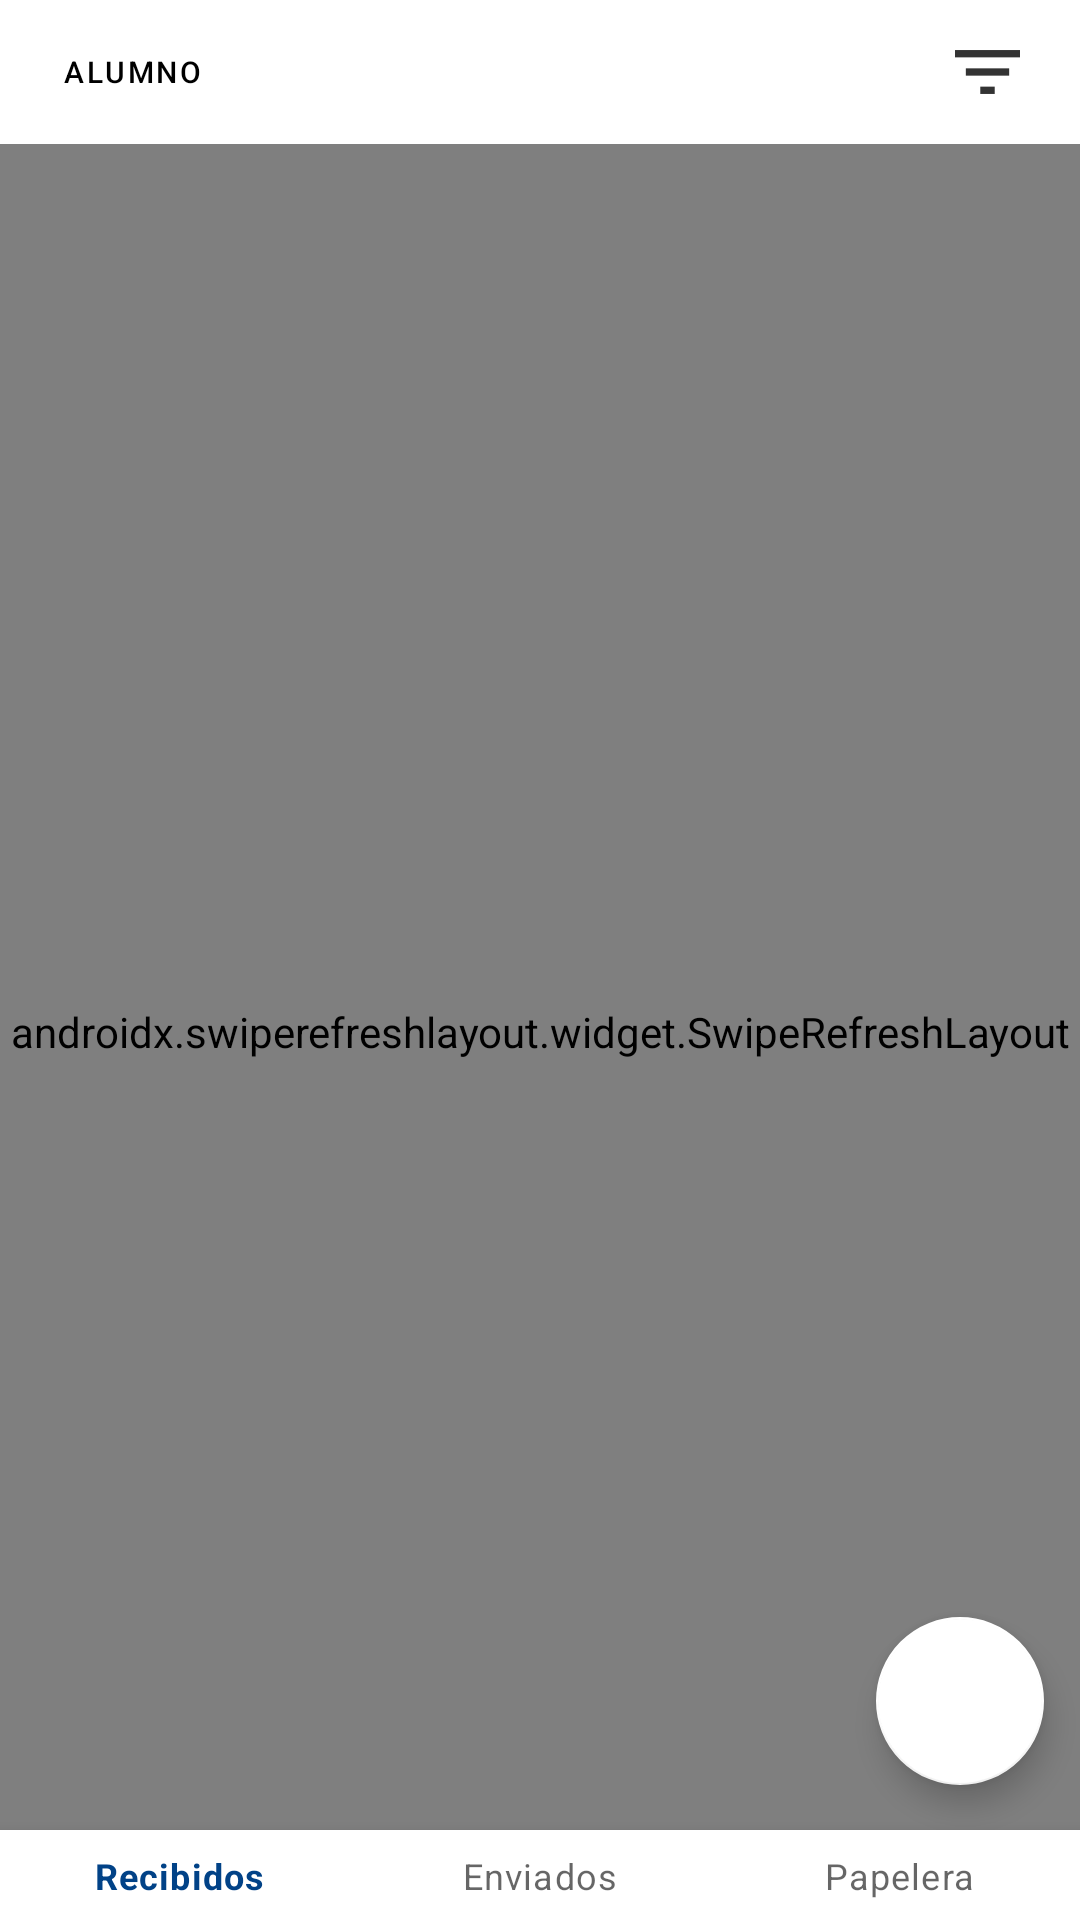

Where icons sit on this 1080x1920 app screen, as (x1, y1, x2, y2):
filter: (955, 50, 1020, 94)
